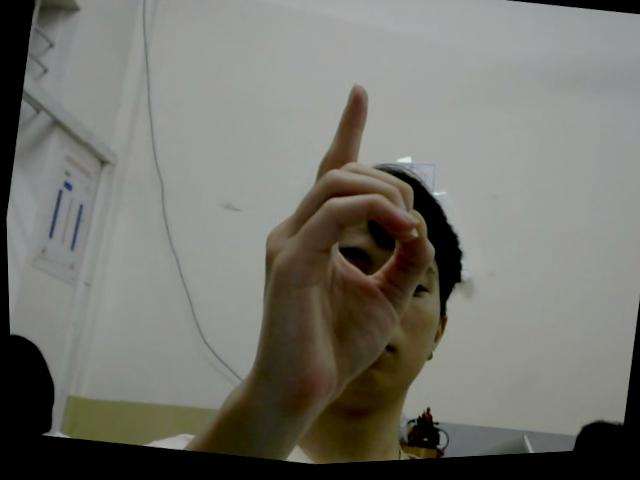D: (232, 70, 462, 423)
